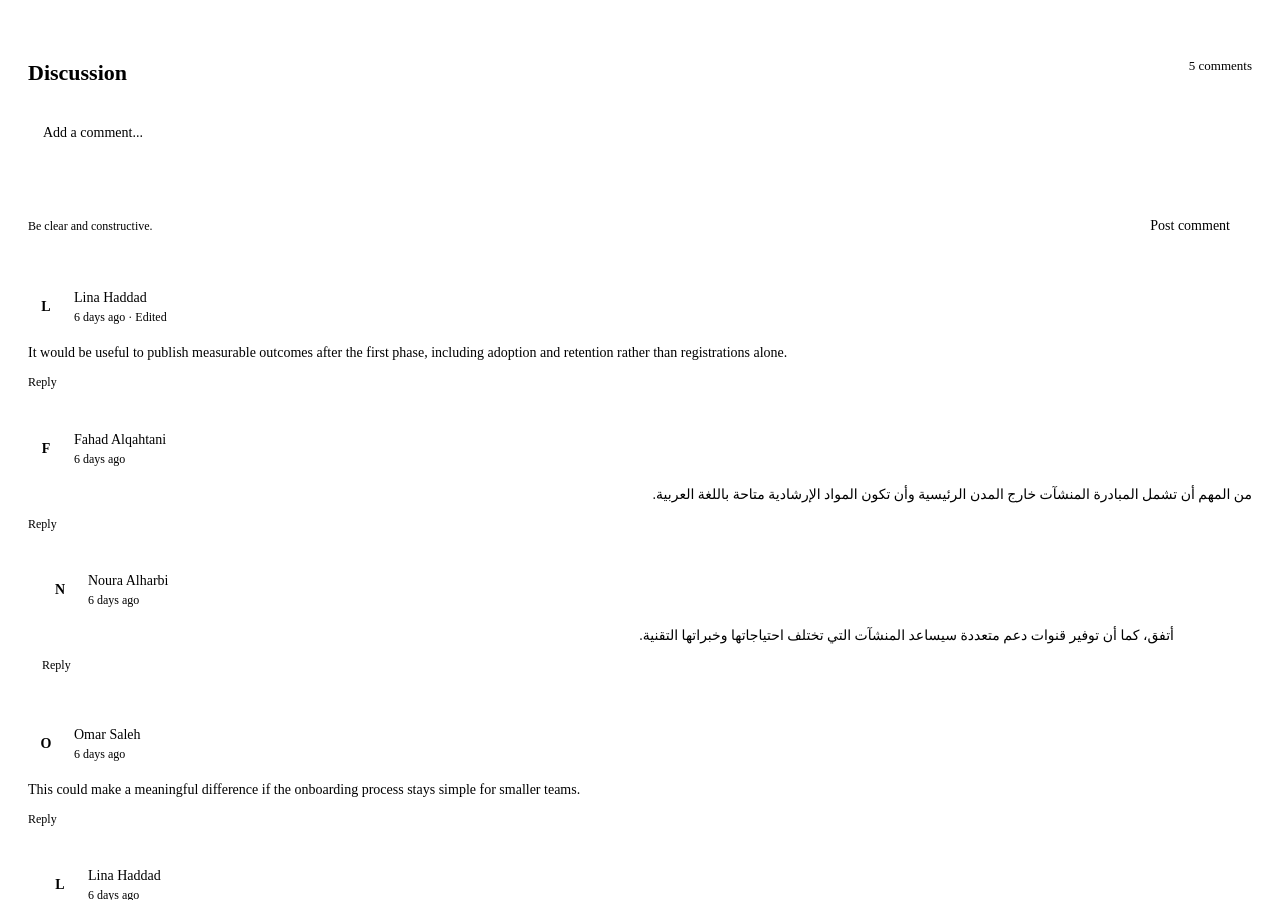
<Discussion> (web) › replies inline with focus management: open → field, Esc → Reply button, post → new reply (J-3, A-3)
The width and height of the screenshot is (1280, 900).
Click the button with aria-label "Reply to Omar Saleh" at (42,819), box [24,807,61,831]
(page scrolled)
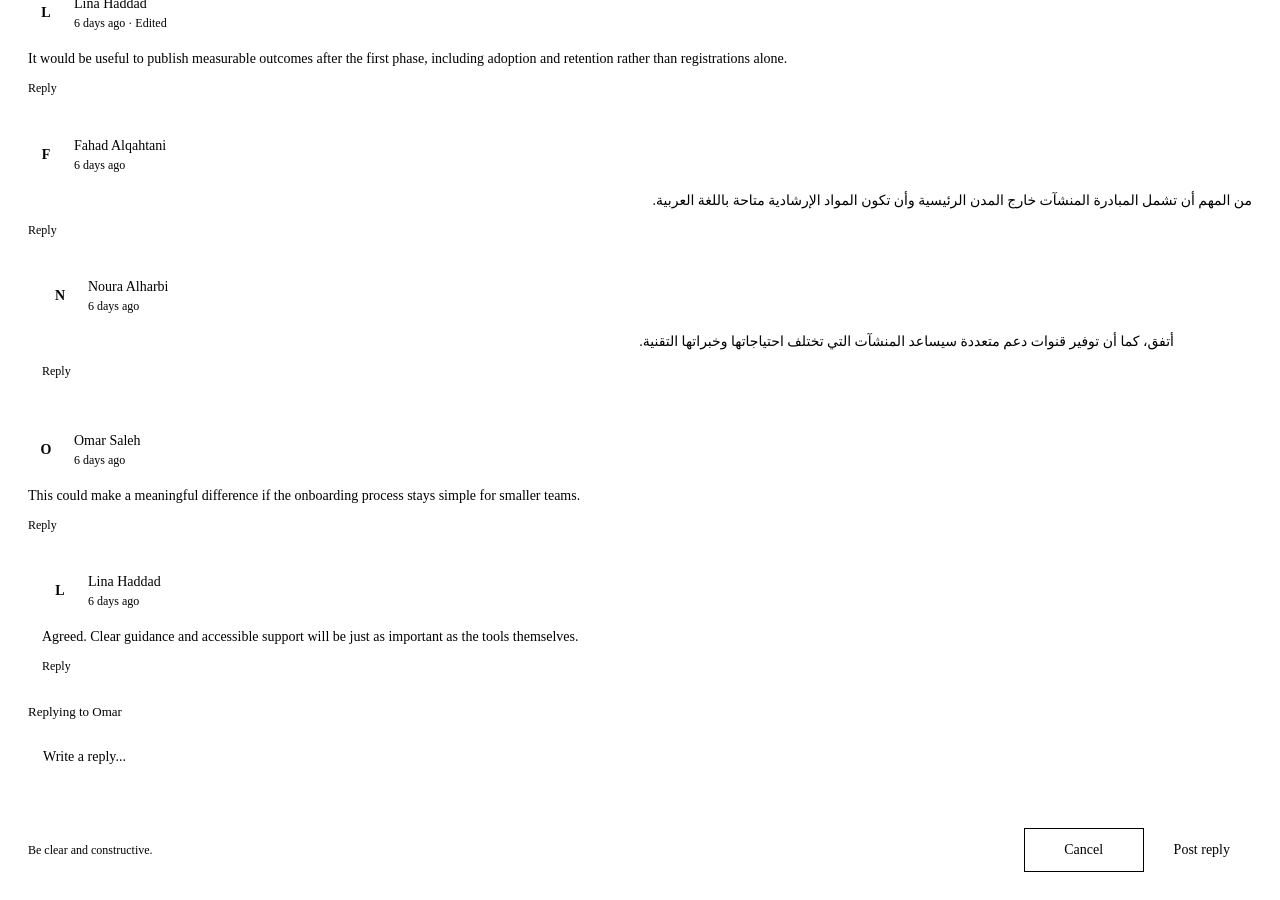
Now the button with aria-label "Reply to Omar Saleh" is expanded, box [24,513,61,537]
Type "Half-written reply" into the text box labelled "Replying to Omar" at (640,775), box [28,733,1252,817]
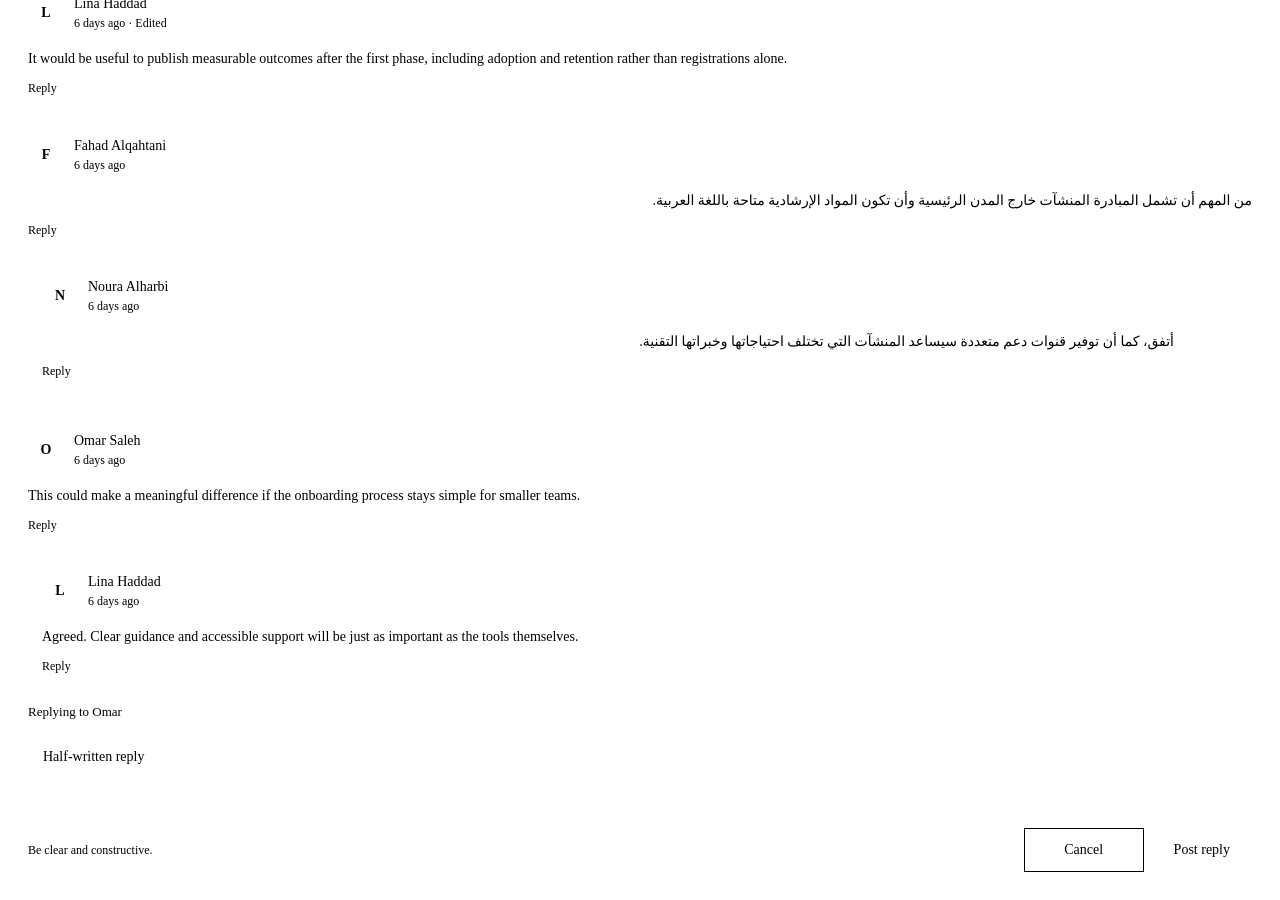
Press Escape
(page scrolled)
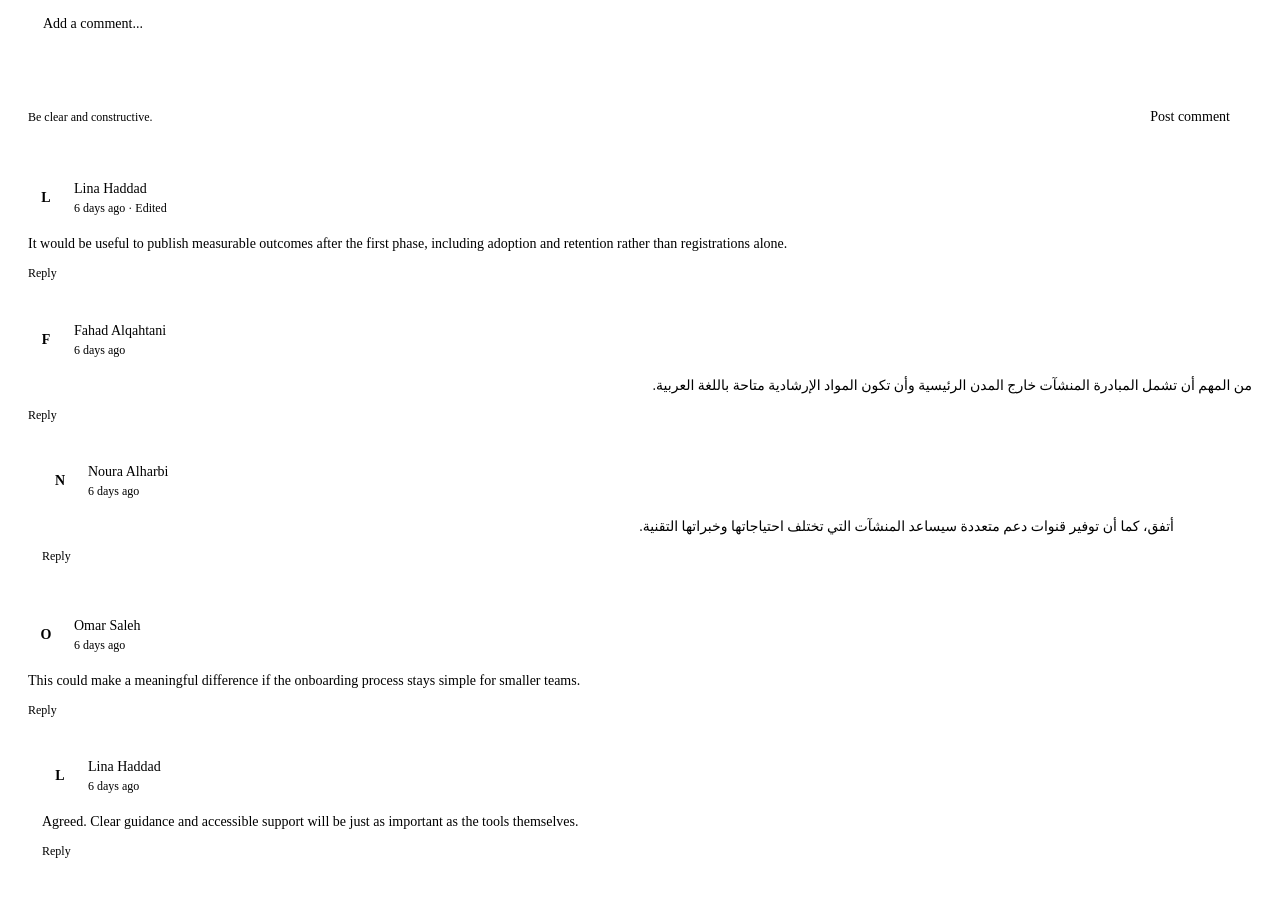
Now the label "Replying to Omar" is gone
# The draft survived closing the composer.
Click the button with aria-label "Reply to Omar Saleh" at (42,710), box [24,698,61,722]
(page scrolled)
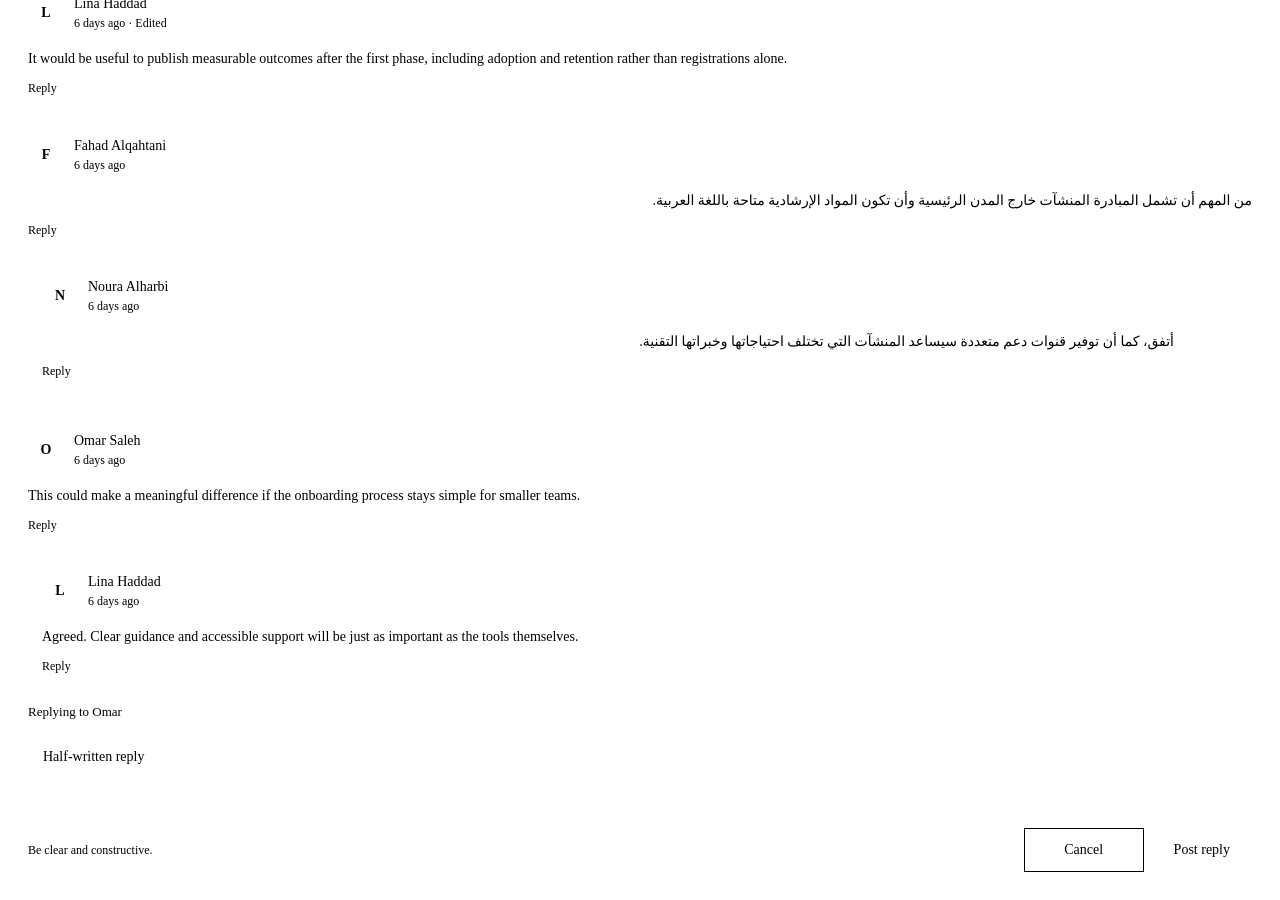
Now the text box labelled "Replying to Omar" holds "Half-written reply", box [28,733,1252,817]
Click the button "Post reply" at (1202,850), box [1152,828,1252,872]
(page scrolled)
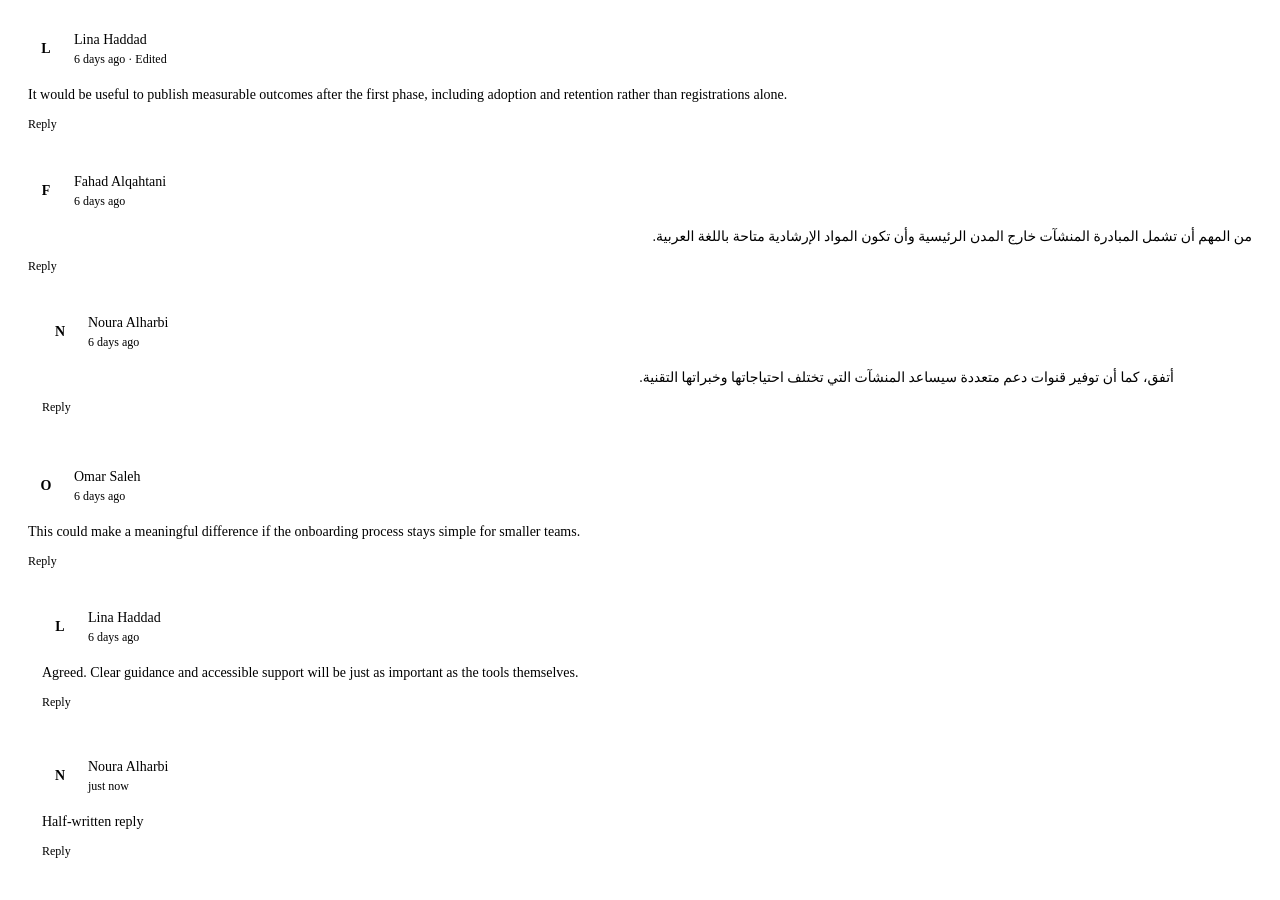
Now the element showing "N Noura Alharbi just now Half-written reply Reply" is shown, box [38,758,200,863]
Now the label "Replying to Omar" is gone
